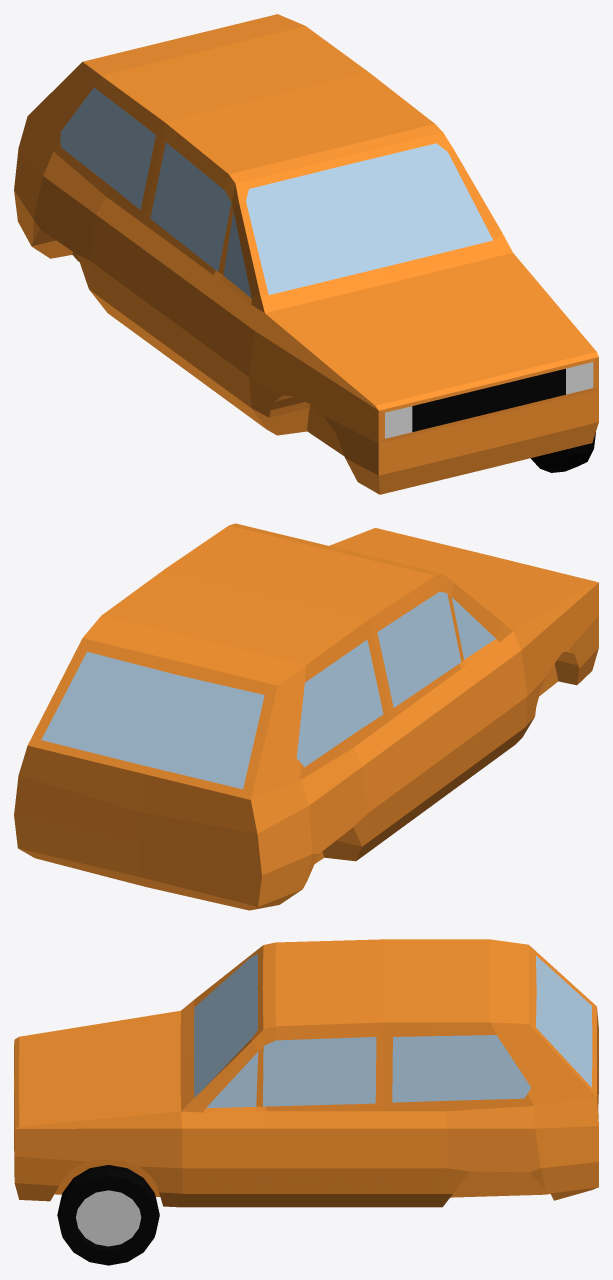
File: car_v5.glb
3 renders of one model, top to bottom at view 1: azimuth 30°, elevation 25°; view 2: azimuth 150°, elevation 25°; view 3: azimuth 270°, elevation 25°, orthographic. The views are drawn at different scales.
Visible parts, largest first — view 1: Car, Wheel; view 2: Car; view 3: Car, Wheel.
Part boxes in pixels (x1,y1,x2,y2): Car: (14, 14, 598, 494); Wheel: (531, 432, 595, 472); Car: (14, 523, 598, 910); Car: (14, 939, 598, 1207); Wheel: (57, 1165, 159, 1265).
Size of the model in its own units: 1.48 by 1.42 by 3.24.
